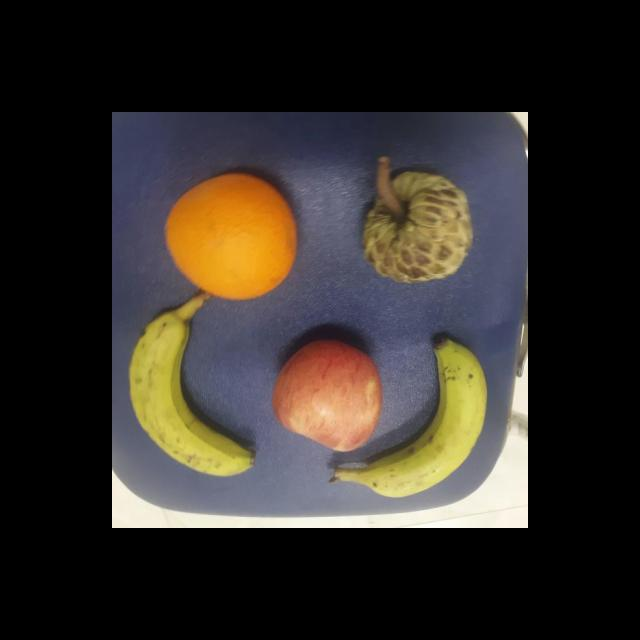Sakya fruit: (360, 162, 470, 286)
apple: (268, 337, 387, 453)
banana: (126, 290, 258, 478), (368, 336, 490, 508)
orange: (161, 164, 300, 307)
